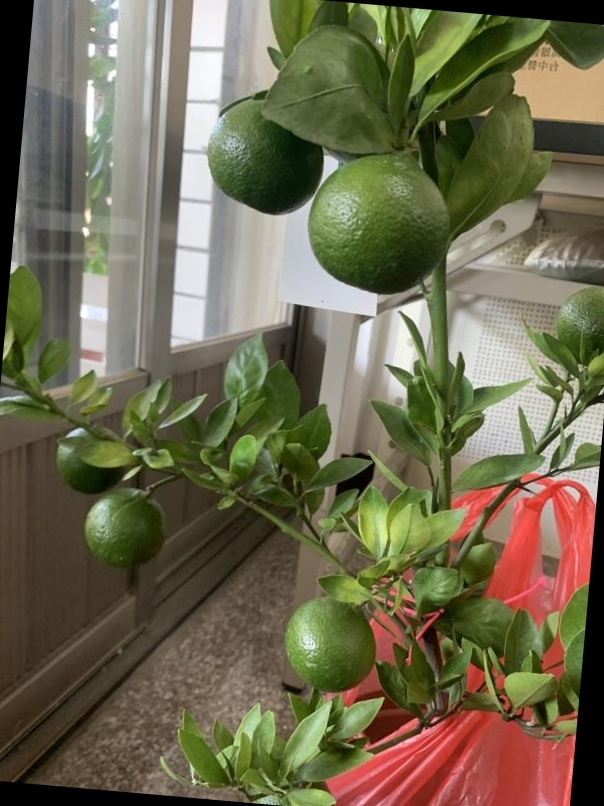Tangerine: (309, 148, 454, 292), (205, 95, 325, 213), (285, 594, 377, 690), (81, 485, 171, 573)
